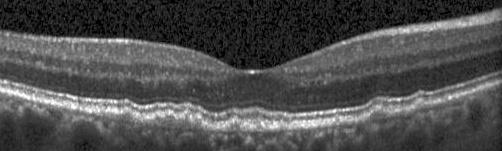retinal_drusen: (147, 112, 203, 129), (106, 109, 142, 126), (409, 99, 432, 115), (370, 110, 390, 120), (229, 119, 241, 130), (253, 120, 265, 130), (264, 121, 274, 130), (277, 122, 289, 128), (242, 124, 252, 131), (292, 123, 297, 127)
